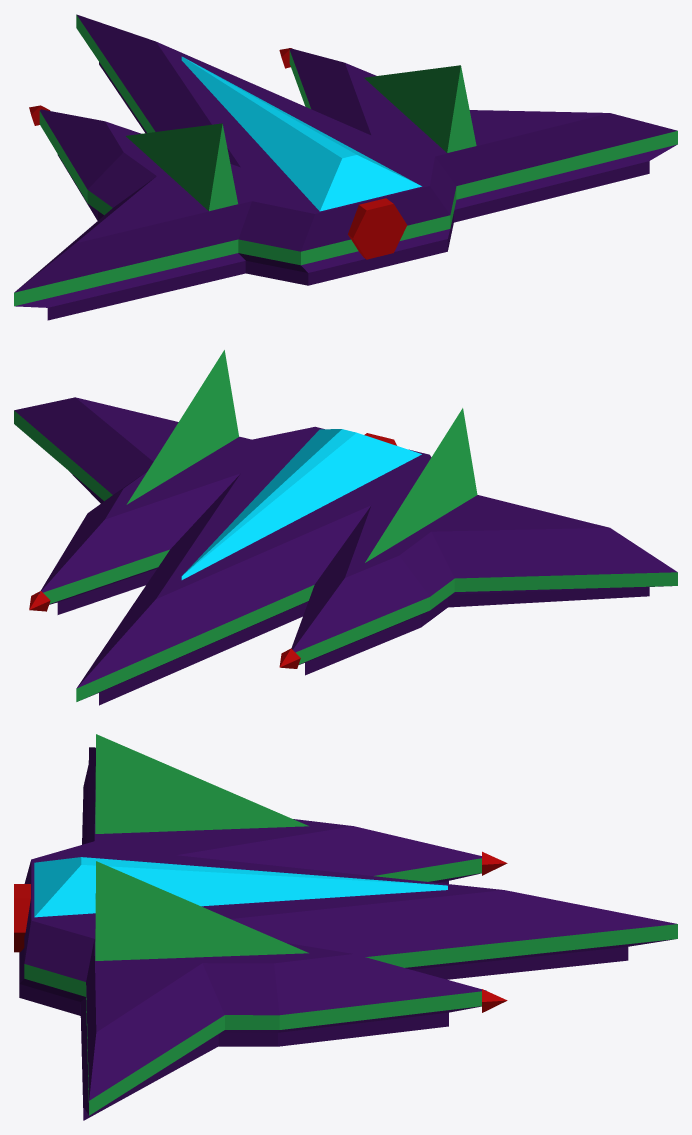
File: Player 1.fbx
3 views of the same model, one above another, from view 1: azimuth 30°, elevation 25°; view 2: azimuth 150°, elevation 25°; view 3: azimuth 270°, elevation 25° (orthographic). The views are drawn at different scales.
Parts seen in each view (by area): view 1: Player_junto; view 2: Player_junto; view 3: Player_junto.
Part boxes in pixels (x1=…): Player_junto: x1=14, y1=14, x2=677, y2=320; Player_junto: x1=14, y1=350, x2=677, y2=705; Player_junto: x1=14, y1=734, x2=677, y2=1120.
Size of the model in its own units: 196 by 41.89 by 155.
